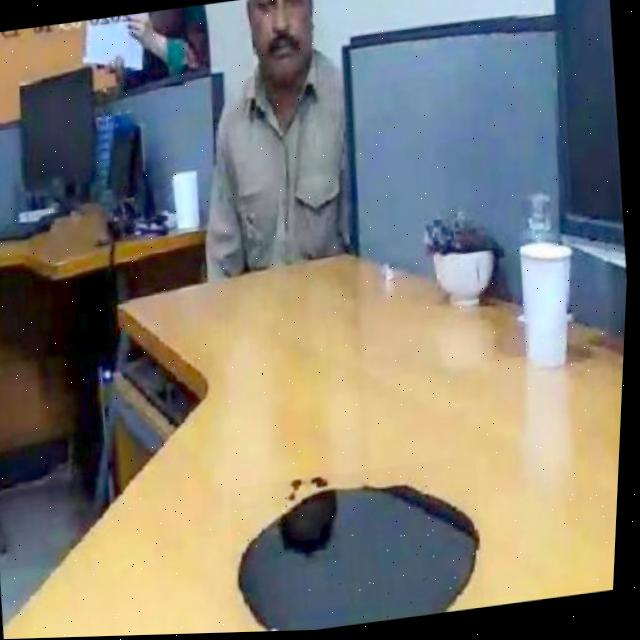spillage: (239, 480, 485, 633)
